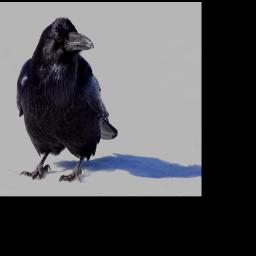Crow: (16, 15, 120, 183)
